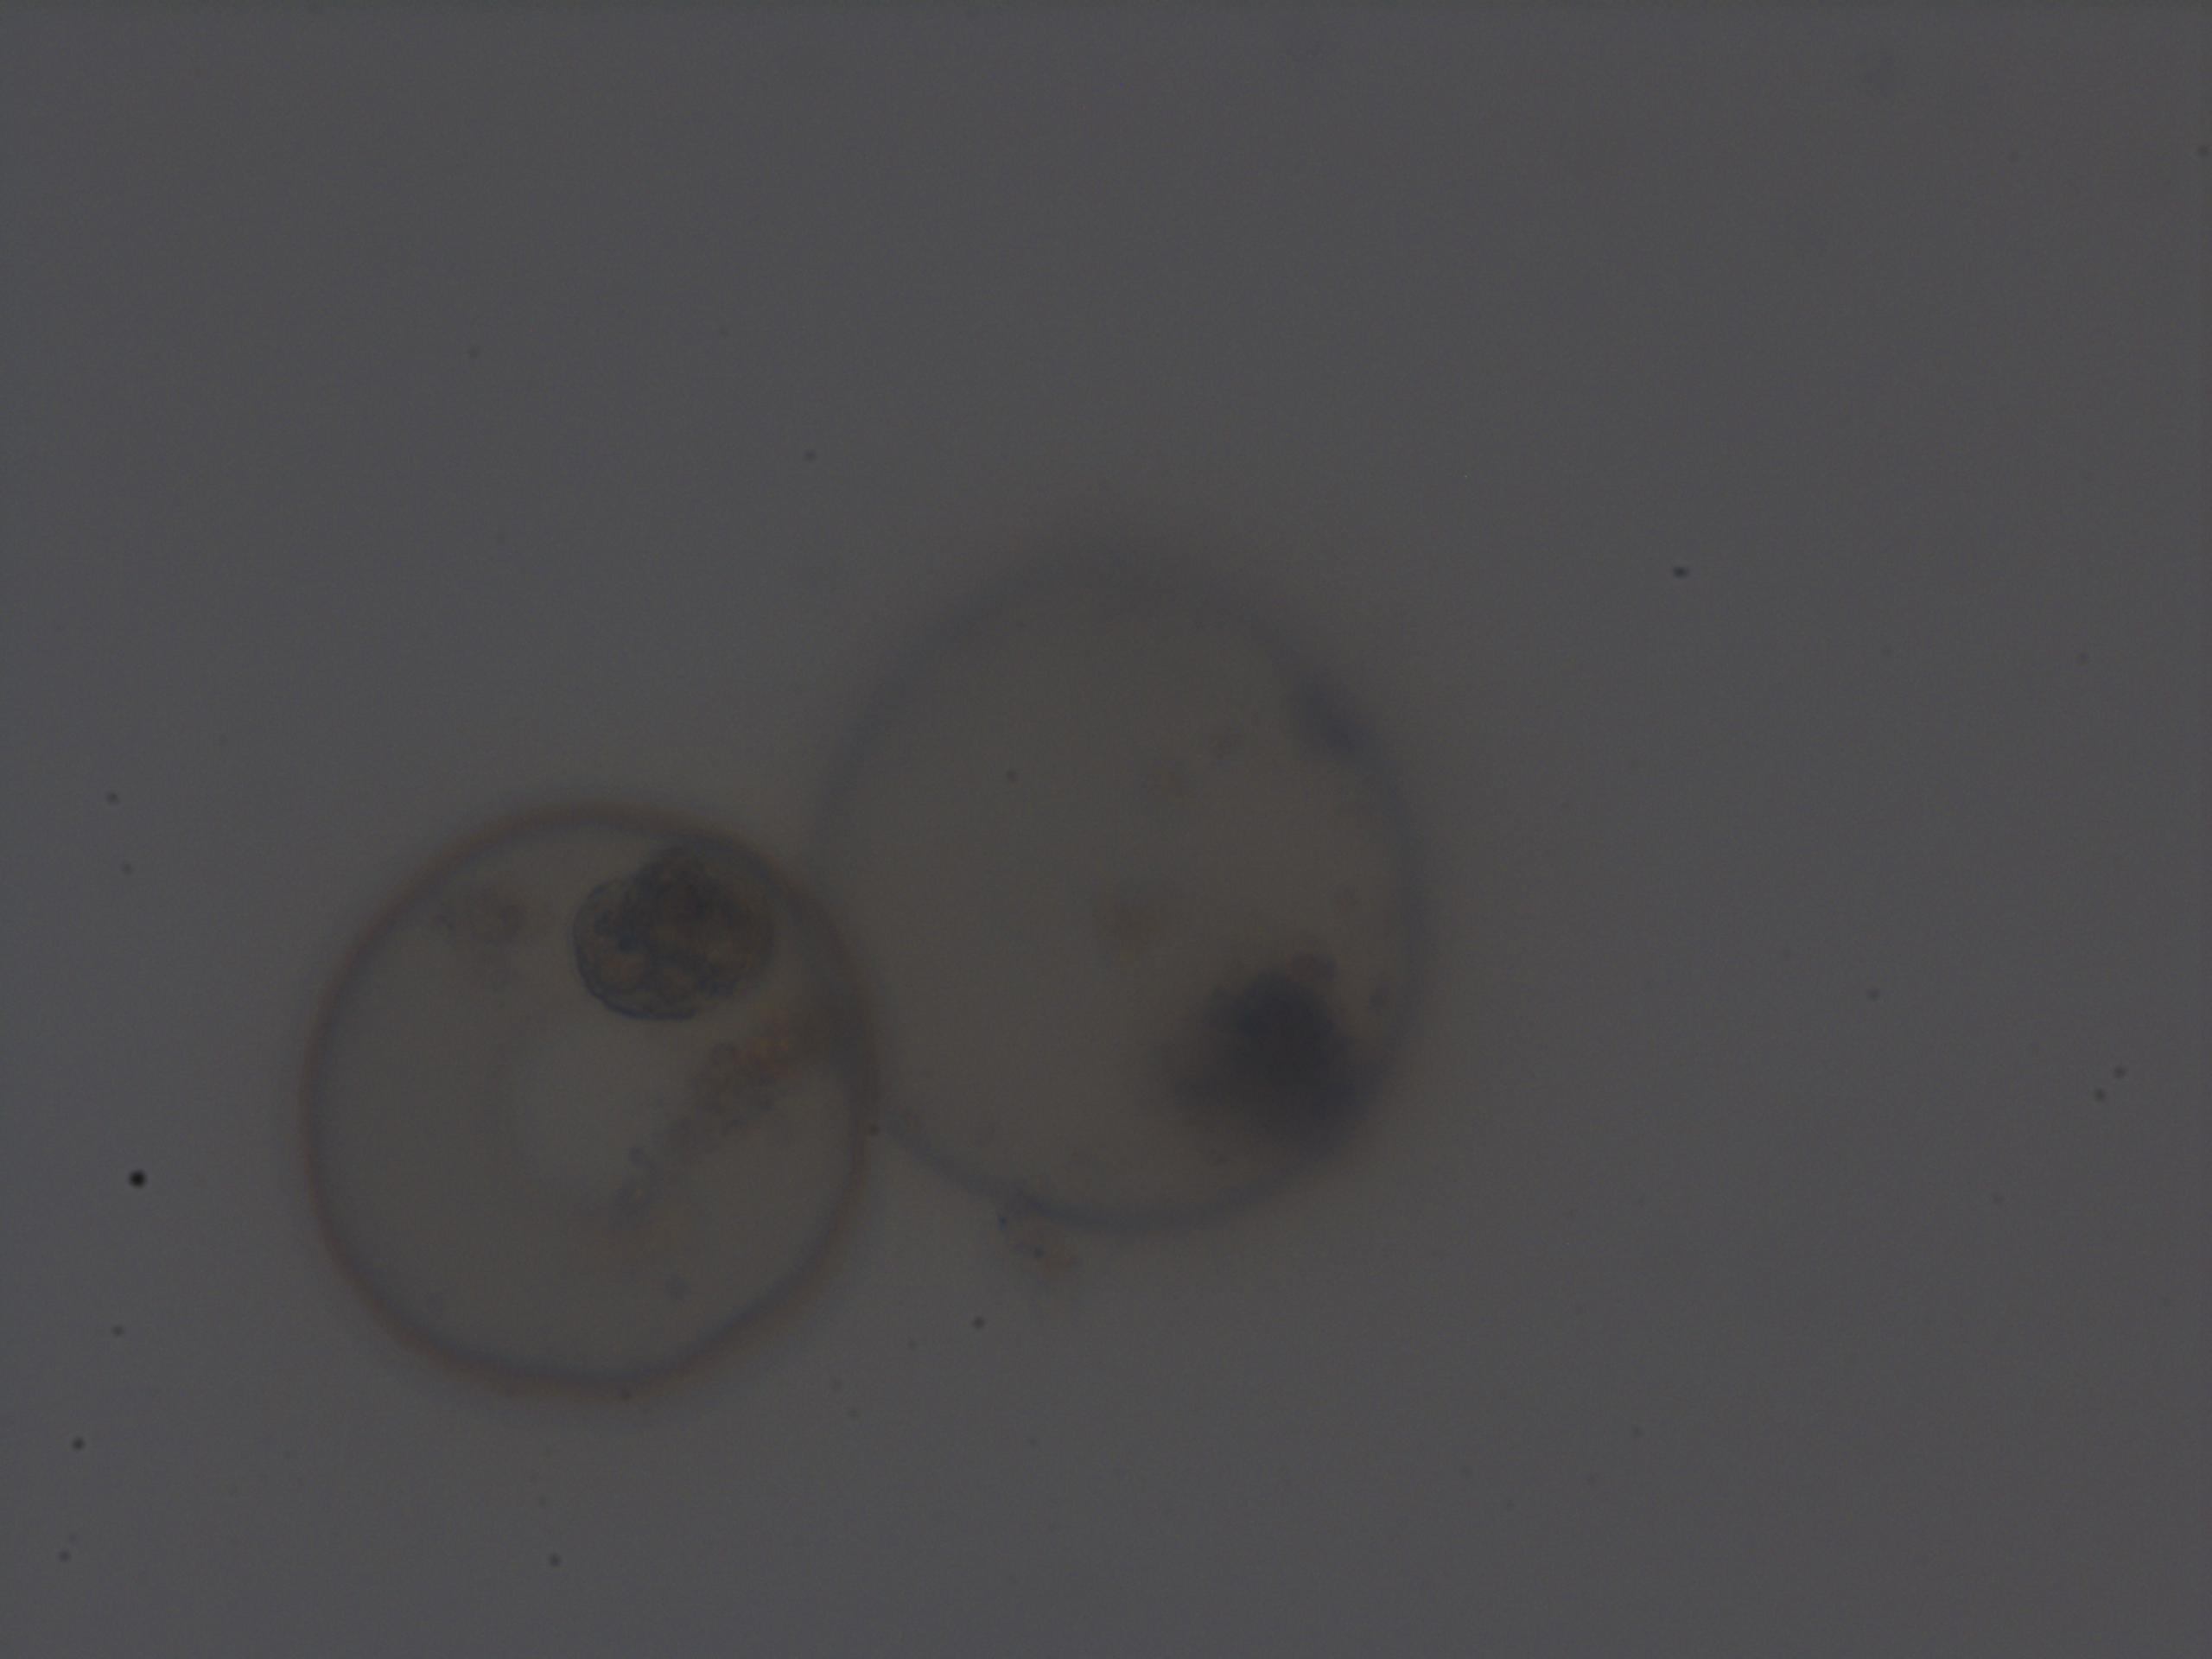protozoa: (801, 530, 1458, 1270), (263, 782, 899, 1415)
